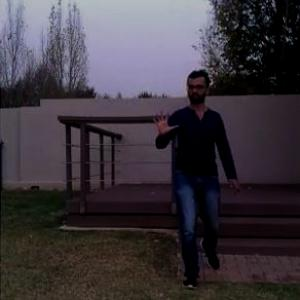follow_hand: (151, 106, 180, 140)
